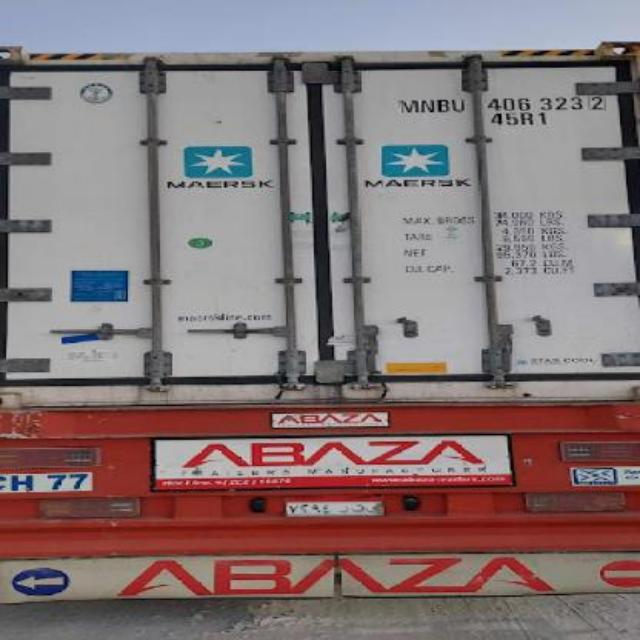0: (500, 92, 516, 112)
2: (586, 96, 608, 112), (552, 95, 568, 111)
3: (536, 94, 554, 112), (568, 96, 582, 110)
4: (486, 95, 499, 111)
6: (516, 96, 532, 112)
B: (438, 96, 450, 116)
M: (392, 95, 418, 115)
N: (420, 97, 436, 117)
U: (450, 96, 468, 116)
